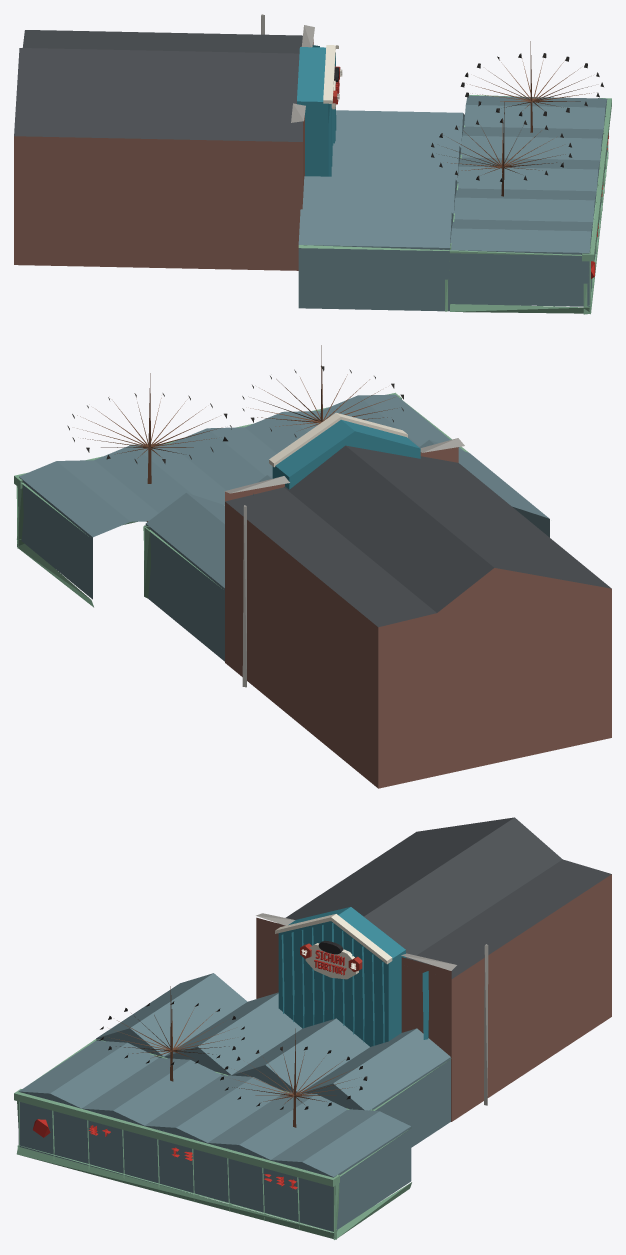
The model's file is garage-noord.lod1.glb.
3 views of the same model, one above another, from view 1: azimuth 30°, elevation 25°; view 2: azimuth 150°, elevation 25°; view 3: azimuth 270°, elevation 25° (orthographic). The views are drawn at different scales.
Visible parts, largest first — view 1: garage-noord; view 2: garage-noord; view 3: garage-noord.
Boxes of the visible parts, <box> form: garage-noord: <box>14,14,611,314</box>; garage-noord: <box>14,345,611,788</box>; garage-noord: <box>14,817,611,1239</box>.
Size of the model in its own units: 27.61 by 8.62 by 25.06.
